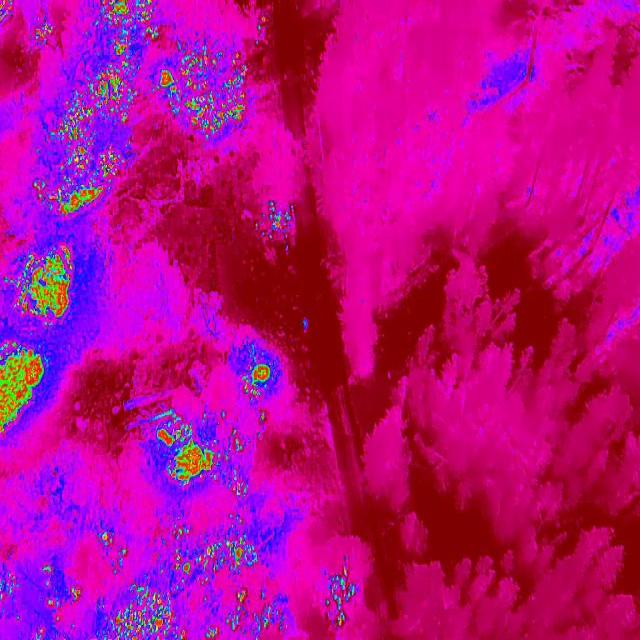fire: (150, 42, 255, 144), (154, 412, 252, 497), (44, 59, 134, 143), (162, 527, 266, 585), (6, 246, 78, 322), (98, 587, 189, 640), (0, 339, 47, 435), (93, 0, 160, 66), (203, 589, 291, 639), (30, 182, 117, 224), (56, 142, 124, 186), (318, 562, 361, 630), (36, 561, 86, 617), (238, 352, 284, 403), (258, 198, 296, 248), (98, 526, 132, 575), (30, 18, 56, 48), (0, 0, 18, 22), (257, 411, 268, 427)
